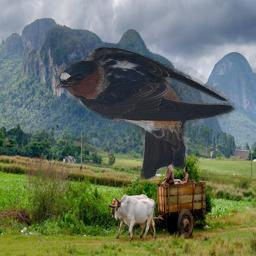Swallow: (54, 44, 237, 180)
